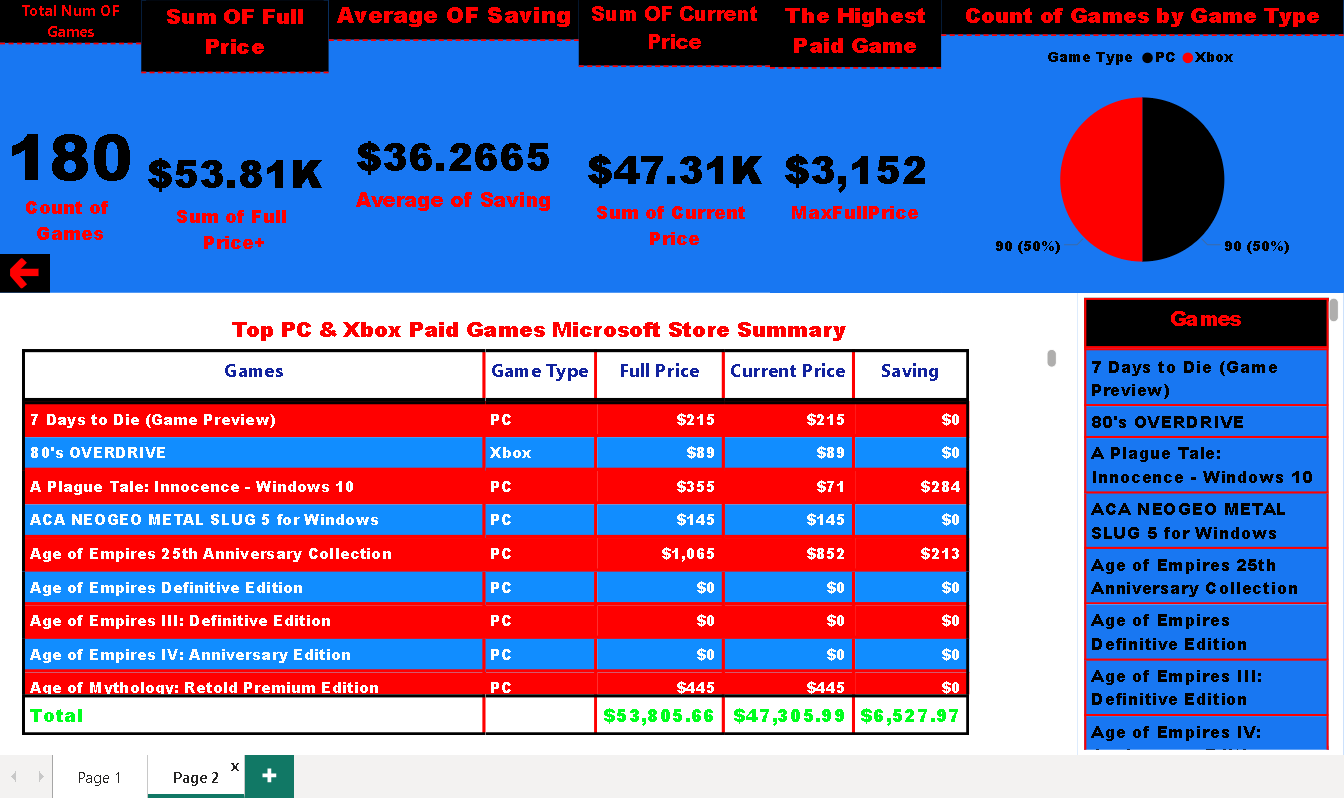

What the dashboard file says about the page in this screenshot:
{"tool":"powerbi","page":{"name":"Page 2","canvas":[1280,720],"ordinal":1},"visuals":[{"type":"card","title":"Total Num OF Games","fields":{"Values":["CountNonNull(TopGamesPC&Xbox.Games)"]},"box":[0,0,134.5,279.8],"z":0},{"type":"card","title":"Average OF Saving","fields":{"Values":["Avg(TopGamesPC&Xbox.Saving)"]},"box":[313.1,0,238.1,279.8],"z":1000},{"type":"card","title":"Sum OF Full Price","fields":{"Values":["Sum(TopGamesPC&Xbox.Full Price+)"]},"box":[134.5,1.2,178.6,279.8],"z":2000},{"type":"card","title":"Sum OF Current Price","fields":{"Values":["Sum(TopGamesPC&Xbox.Current Price)"]},"box":[551.2,0,182.1,279.8],"z":3000},{"type":"tableEx","title":"Top PC & Xbox  Paid Games Microsoft Store Summary","fields":{"Values":["TopGamesPC&Xbox.Games","TopGamesPC&Xbox.Game Type","Sum(TopGamesPC&Xbox.Full Price+)","Sum(TopGamesPC&Xbox.Current Price)","Sum(TopGamesPC&Xbox.Saving)"]},"box":[0,279.8,1026.2,441.7],"z":4000},{"type":"tableEx","fields":{"Values":["TopGamesPC&Xbox.Games"]},"box":[1026.2,279.8,253.6,440.5],"z":5000},{"type":"card","title":"The Highest Paid Game","fields":{"Values":["TopGamesPC&Xbox.MaxFullPrice"]},"box":[733.3,0,163.1,279.8],"z":6000},{"type":"pieChart","fields":{"Category":["TopGamesPC&Xbox.Game Type"],"Y":["CountNonNull(TopGamesPC&Xbox.Games)"]},"box":[896.4,0,383.3,279.8],"z":7000},{"type":"actionButton","box":[0,242.9,47.6,36.9],"z":7001}]}

Visuals, with their boxes on the page's 1280x720 design canvas (x1, y1, x2, y2). These are canvas units, not pixel positions in the 1344x798 screenshot, which may show the page scaled, cropped or inside an application window:
"Total Num OF Games" card: x1=0 y1=0 x2=134 y2=280
"Average OF Saving" card: x1=313 y1=0 x2=551 y2=280
"Sum OF Full Price" card: x1=134 y1=1 x2=313 y2=281
"Sum OF Current Price" card: x1=551 y1=0 x2=733 y2=280
"Top PC & Xbox  Paid Games Microsoft Store Summary" tableEx: x1=0 y1=280 x2=1026 y2=722
tableEx - TopGamesPC&Xbox.Games: x1=1026 y1=280 x2=1280 y2=720
"The Highest Paid Game" card: x1=733 y1=0 x2=896 y2=280
pieChart - TopGamesPC&Xbox.Game Type x CountNonNull(TopGamesPC&Xbox.Games): x1=896 y1=0 x2=1280 y2=280
actionButton: x1=0 y1=243 x2=48 y2=280
